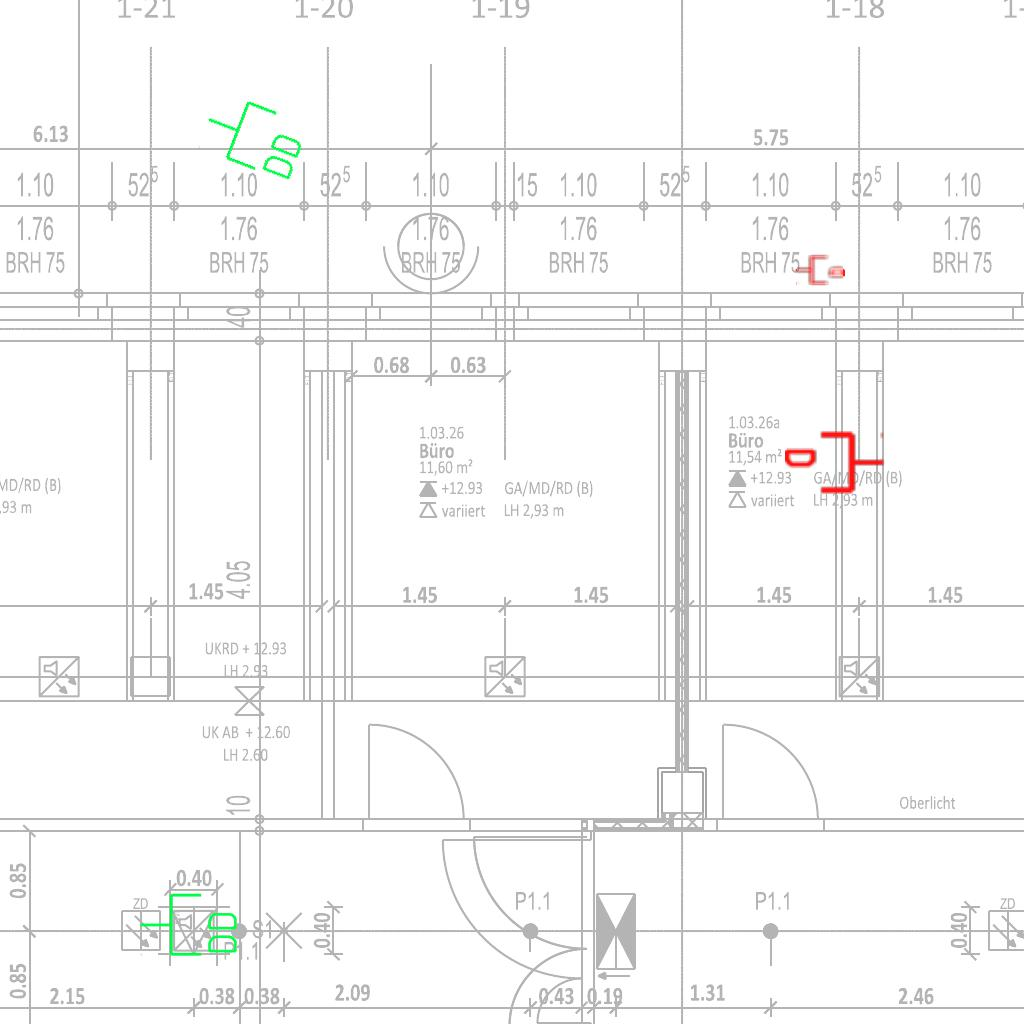Datenanschluss_einfach: (785, 428, 885, 497), (795, 253, 845, 287)
Datenanschluss_zweifach: (194, 86, 315, 189), (138, 891, 241, 960)
